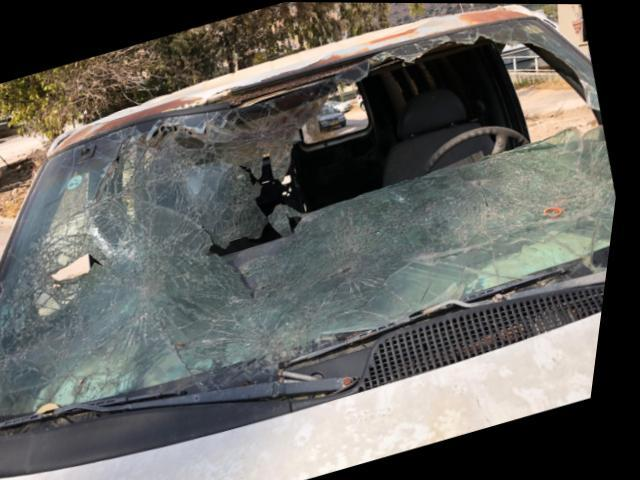glass shatter: (0, 19, 621, 426)
